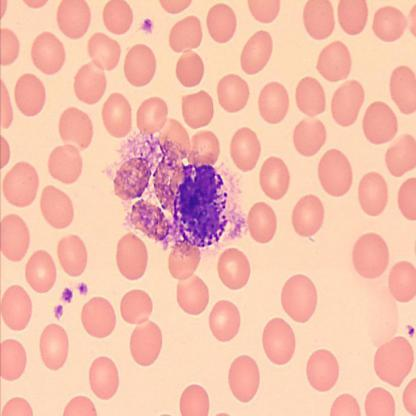Basophil: (172, 160, 229, 254)
